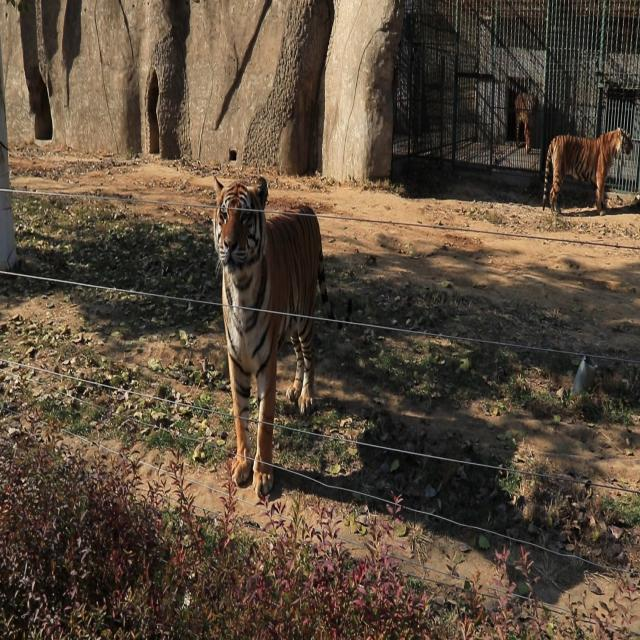Tiger: (185, 150, 371, 524), (536, 122, 634, 225), (507, 80, 543, 154)
